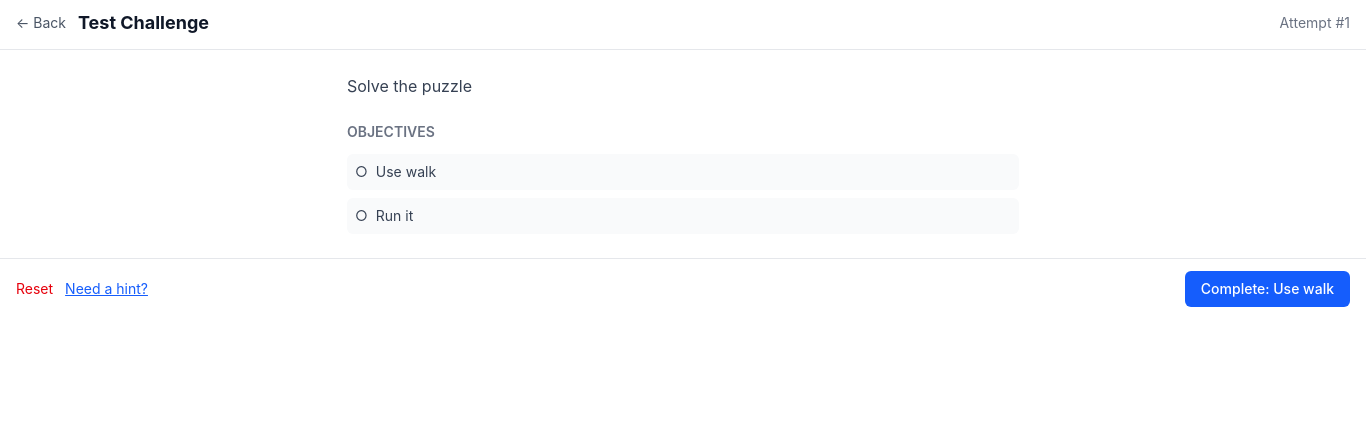
ChallengePlayer › reveals hints progressively
Click the button with test id "hint-button" at (107, 289), box [65,279,148,299]
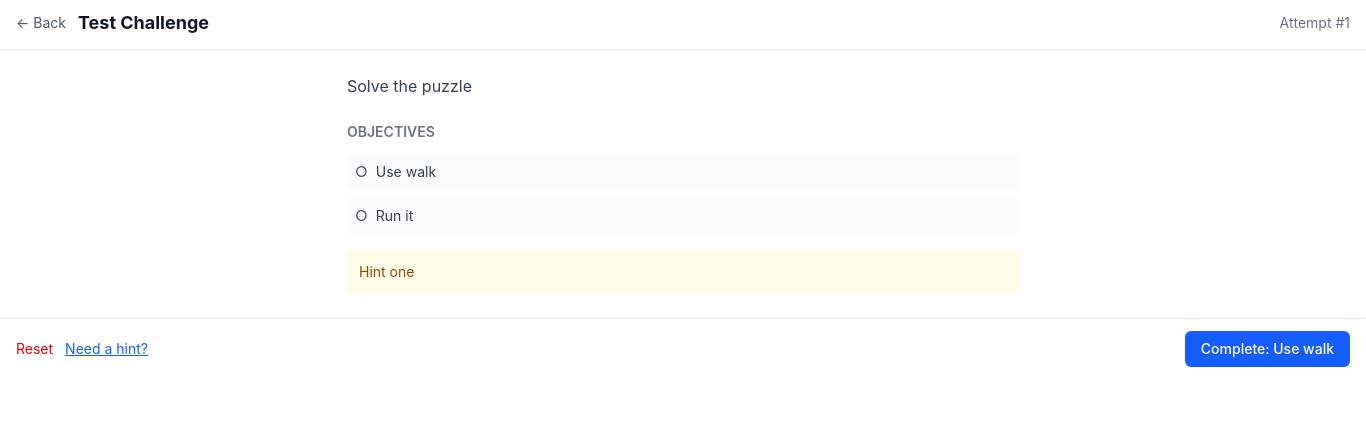
Expected: the text "Hint two" is not shown
Expected: the text "Hint one" is shown, [347,250,1019,294]
Click the button with test id "hint-button" at (107, 349), box [65,339,148,359]
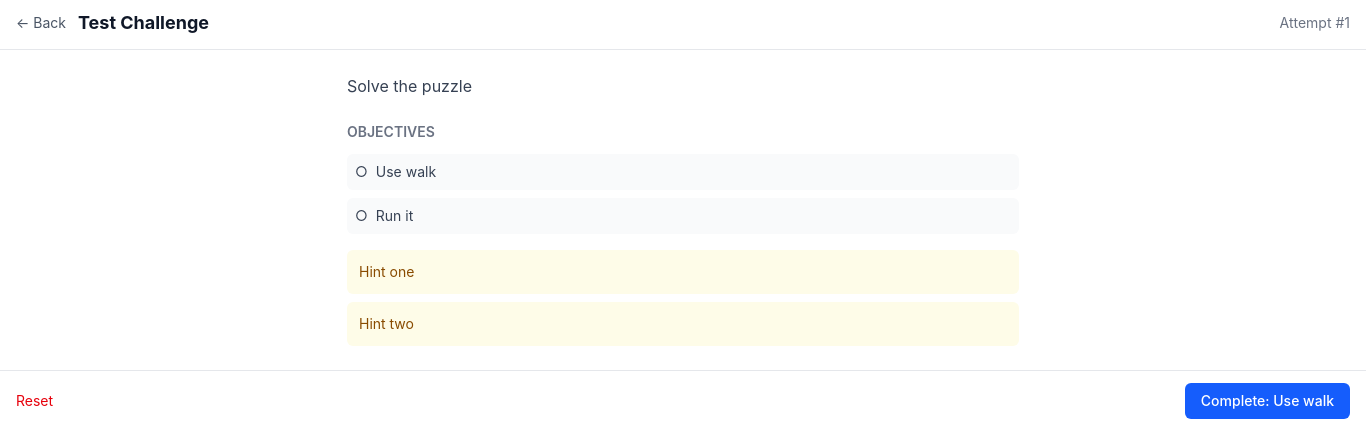
Expected: the text "Hint two" is shown, [347,302,1019,346]
